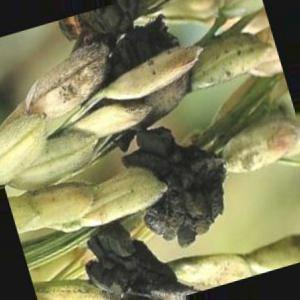Leaf_Scald: (90, 230, 182, 300), (136, 131, 214, 180), (109, 20, 176, 71), (164, 184, 223, 238), (77, 2, 144, 36)
